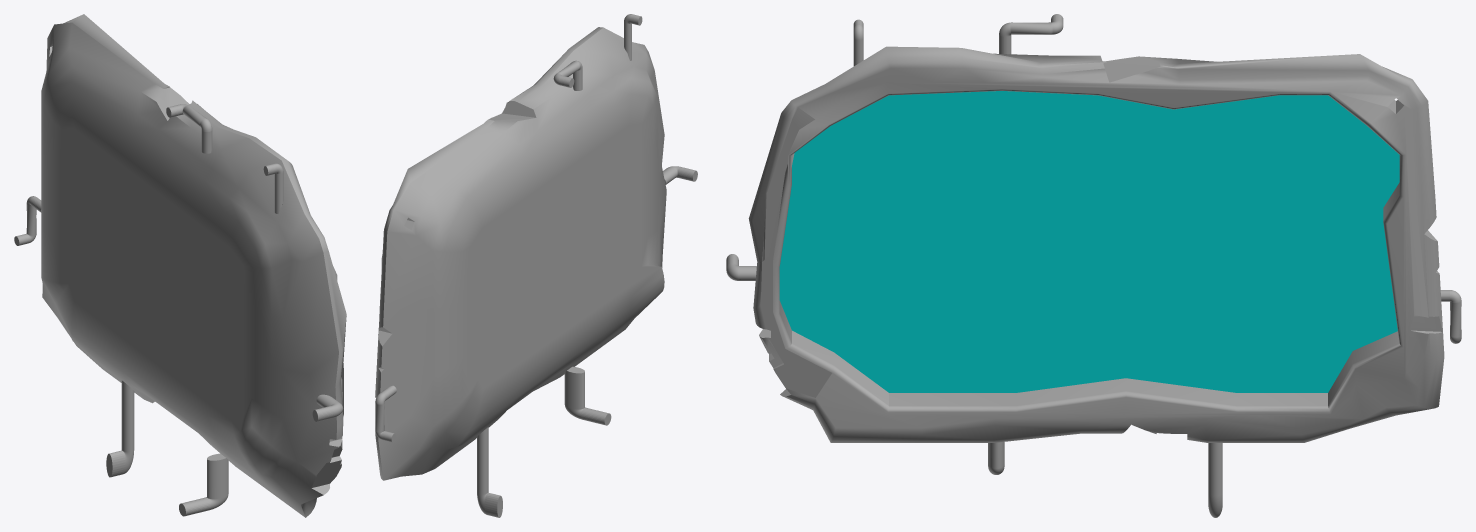
The model's file is WallScreenBrokenPipes.fbx.
The picture shows the model from 3 angles, left to right: view 1: azimuth 30°, elevation 25°; view 2: azimuth 150°, elevation 25°; view 3: azimuth 270°, elevation 25°; orthographic projection. The views are drawn at different scales.
Parts seen in each view (by area): view 1: polySurface365; view 2: polySurface365; view 3: polySurface365.
Boxes of the visible parts, box(x1,y1,x2,y2) form: polySurface365: box(14, 14, 346, 517); polySurface365: box(375, 14, 697, 517); polySurface365: box(726, 14, 1461, 517).
Bounding box in the file's own units: 0.2664 × 1.63 × 2.21.
